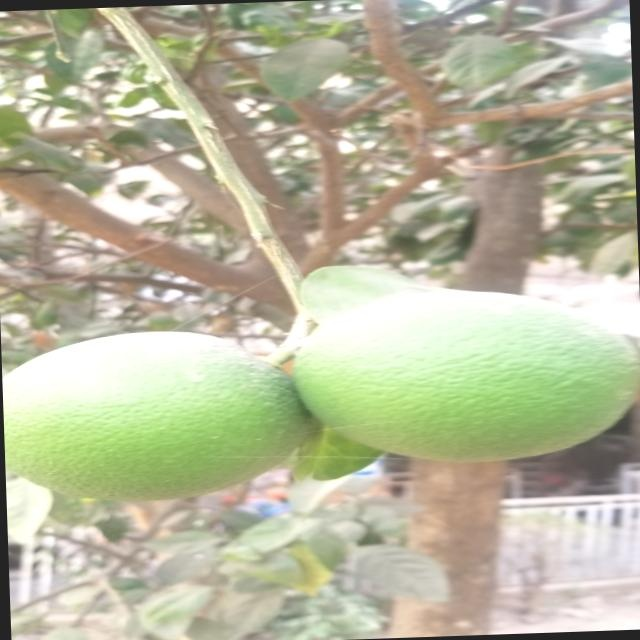agrume: (289, 282, 640, 469), (0, 322, 329, 507)
